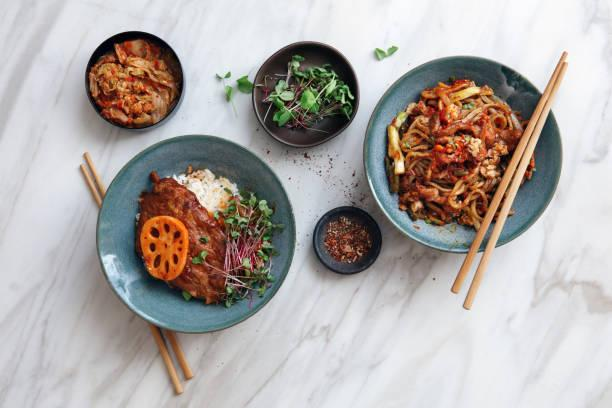Braised Crucian Carp: (362, 54, 563, 254), (96, 132, 295, 333)
